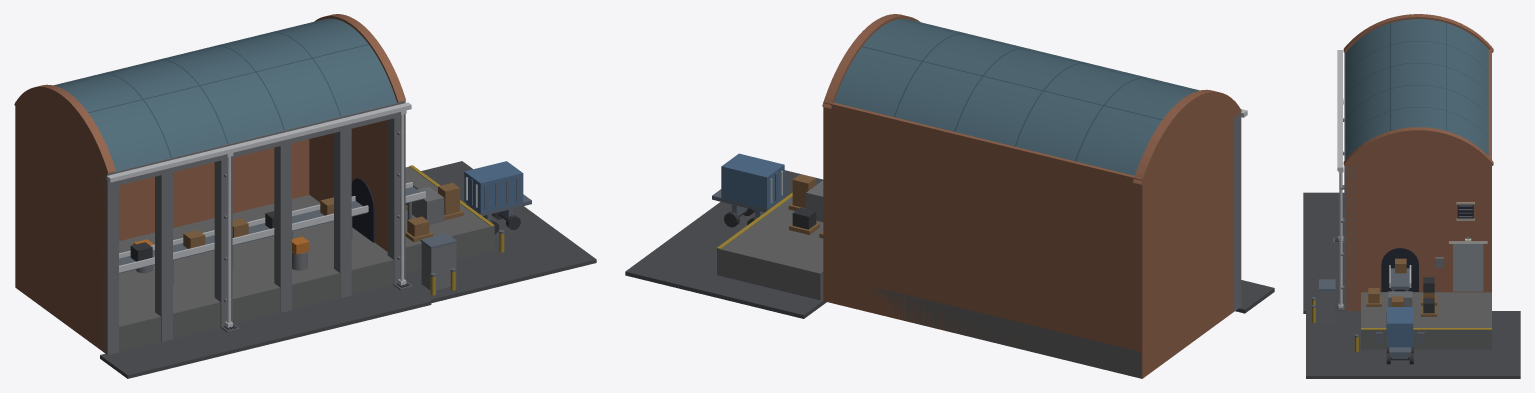
Rendered from assembly_plant_lvl1.glb.
3 renders of one model, left to right at view 1: azimuth 30°, elevation 25°; view 2: azimuth 150°, elevation 25°; view 3: azimuth 270°, elevation 25°, orthographic. The views are drawn at different scales.
Visible parts, largest first — view 1: assembly_plant, assembly_plant_Glass; view 2: assembly_plant, assembly_plant_Glass; view 3: assembly_plant, assembly_plant_Glass.
Boxes of the visible parts, box(x1,y1,x2,y2) form: assembly_plant: box(14, 14, 596, 378); assembly_plant_Glass: box(53, 18, 396, 171); assembly_plant: box(625, 14, 1274, 378); assembly_plant_Glass: box(834, 19, 1199, 175); assembly_plant: box(1303, 14, 1520, 378); assembly_plant_Glass: box(1345, 19, 1488, 159).
Bounding box in the file's own units: 0.7755 × 0.362 × 0.3882.
